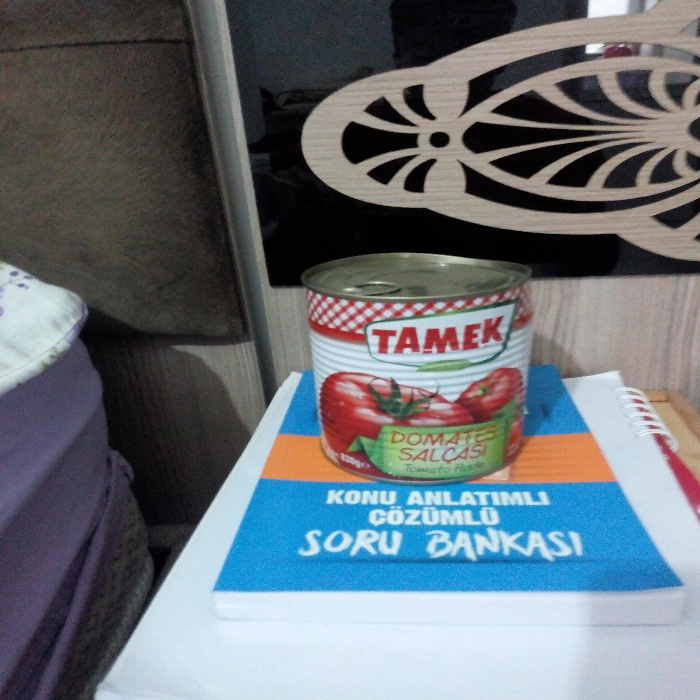salca: (291, 229, 548, 489)
